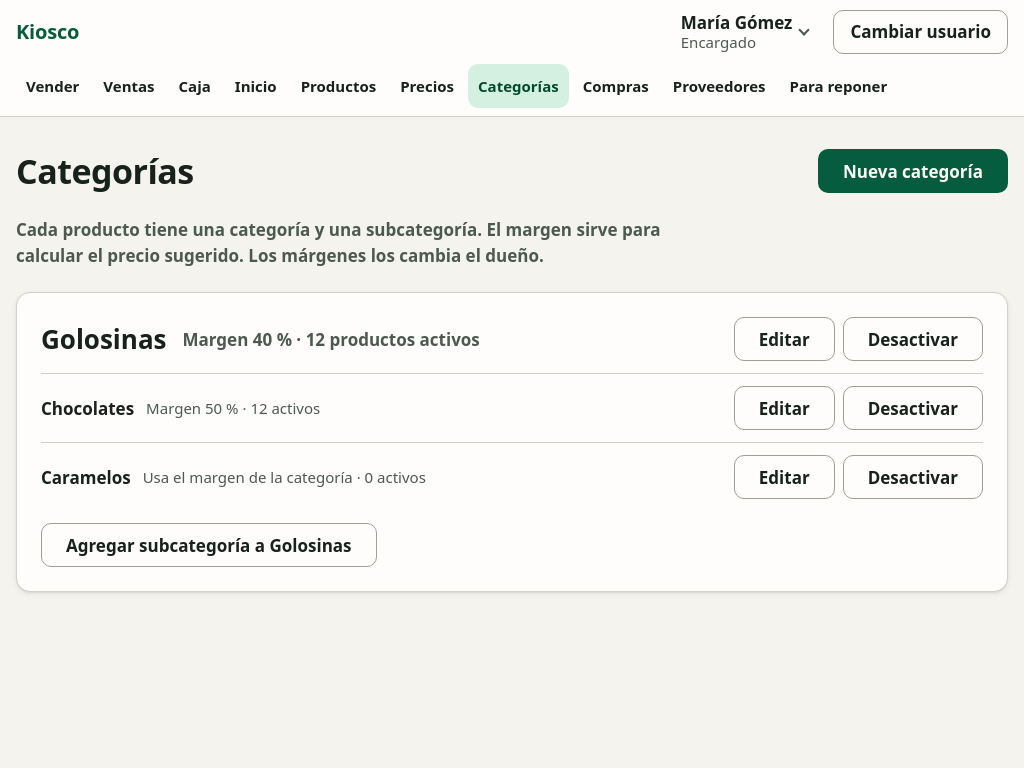
Categorías › desactivar con productos activos muestra el error claro (H-27)
Click the button with aria-label "Desactivar la subcategoría Chocolates": (913, 408) [843,386,983,430]
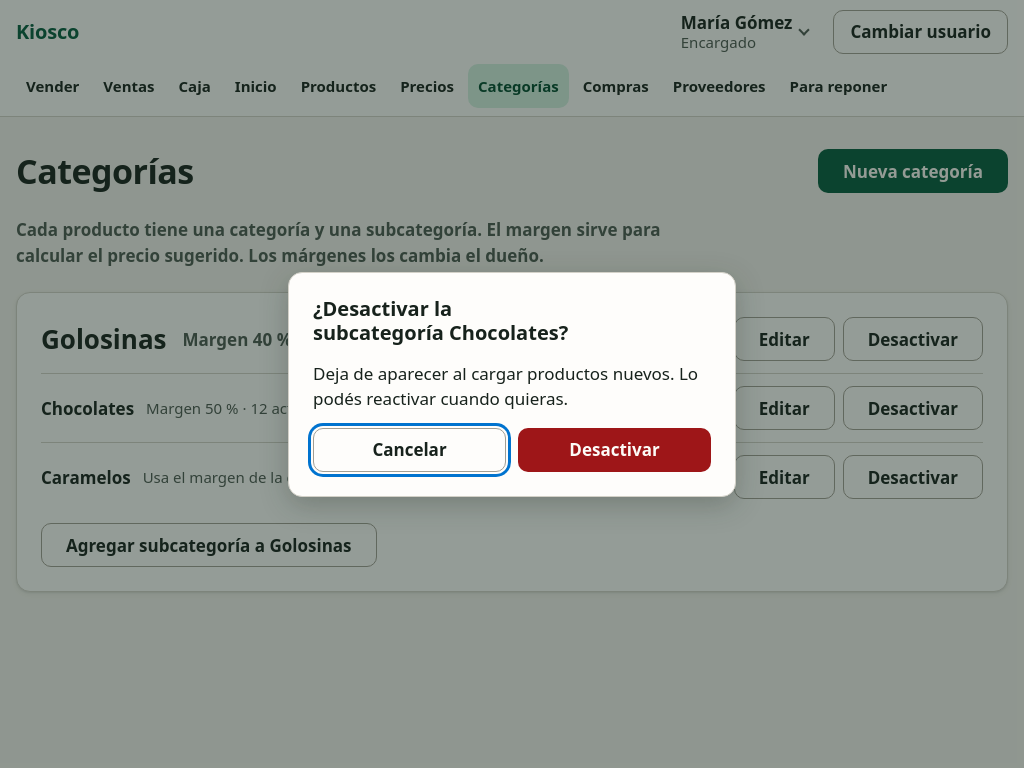
Click the button "Desactivar": (614, 450) [518,428,711,472]
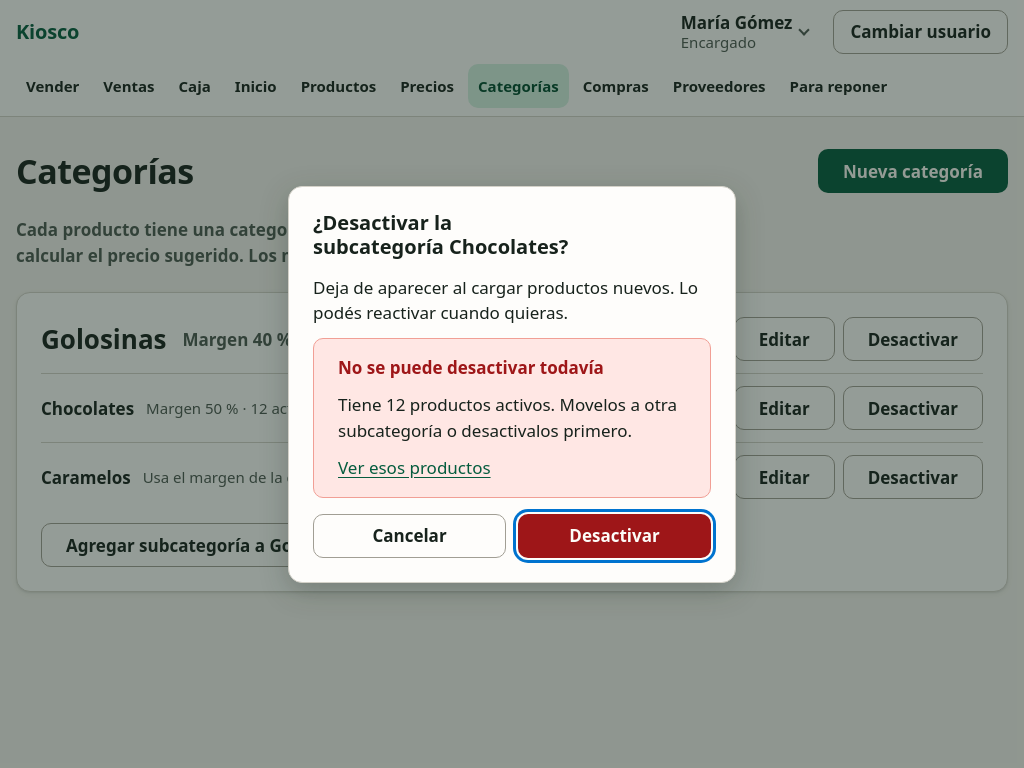
Expected: the text "Tiene 12 productos activos" is shown, [338,393,677,442]
